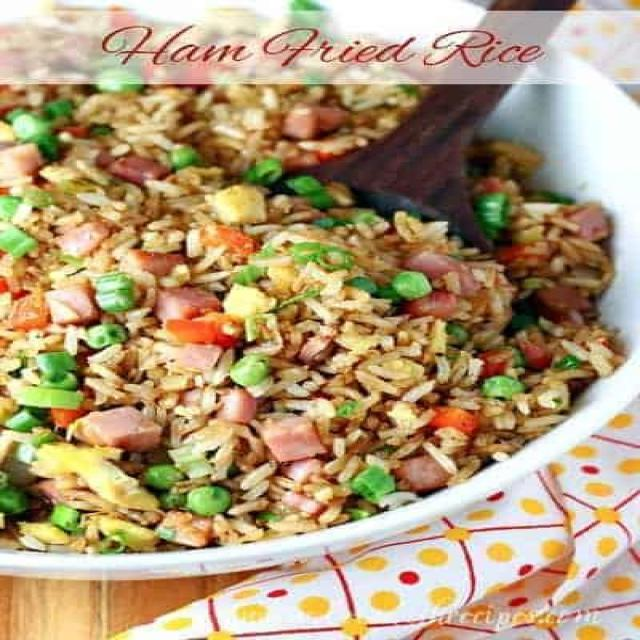Nasi Goreng: (0, 81, 624, 554)
